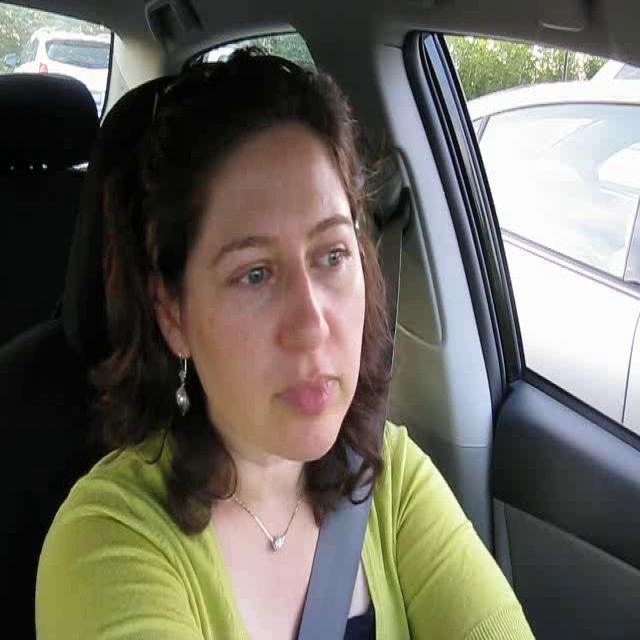open: (208, 226, 288, 305), (296, 206, 364, 281)
